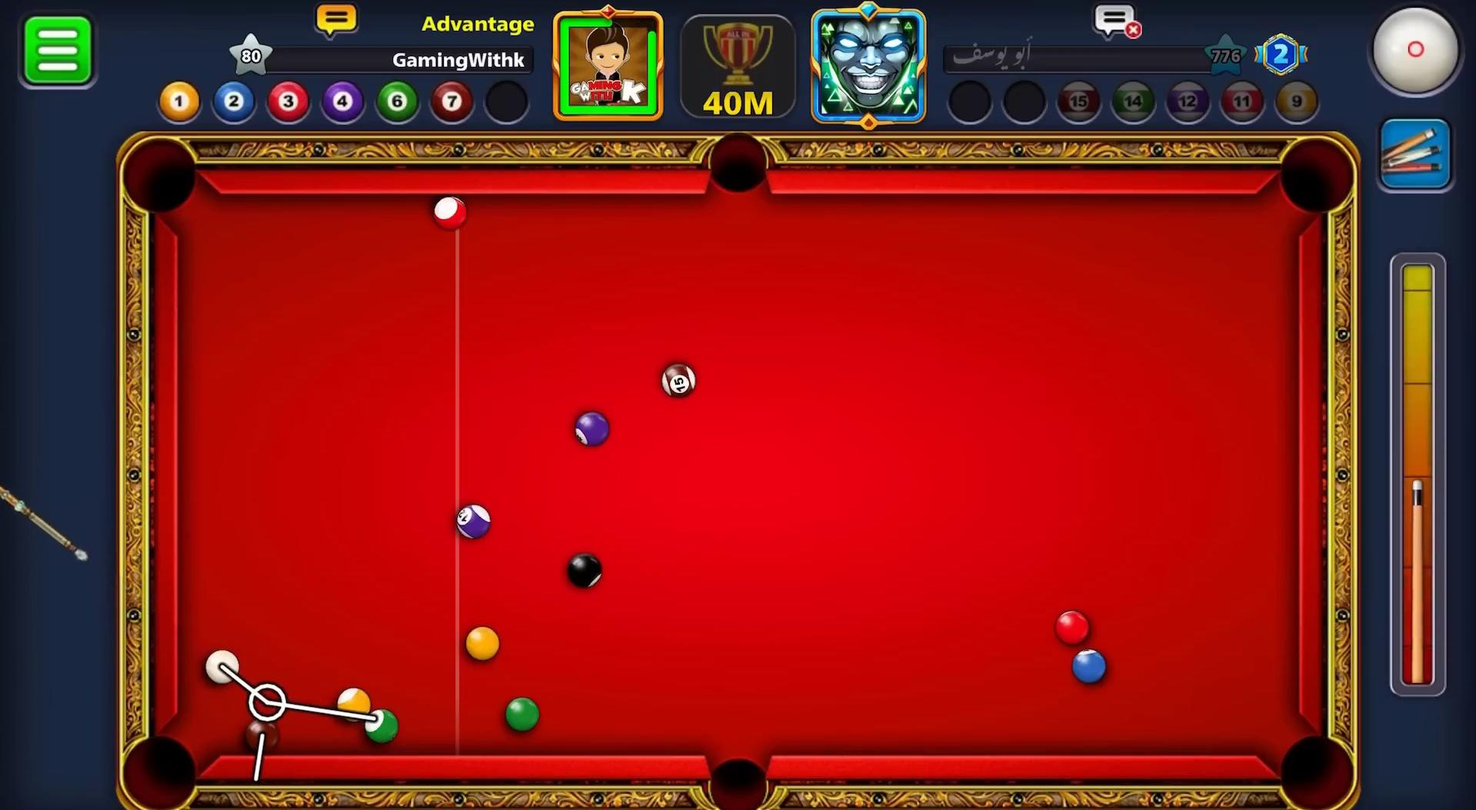Ball: (497, 688, 554, 744), (426, 181, 476, 243), (560, 402, 618, 455), (453, 620, 508, 670), (240, 711, 291, 764), (561, 547, 616, 595), (652, 356, 703, 404), (351, 699, 398, 751), (1046, 605, 1106, 644), (330, 681, 381, 726), (449, 498, 492, 546), (1067, 645, 1110, 689)
Force: (1391, 253, 1450, 695)
Guideline: (216, 662, 379, 725), (246, 684, 287, 722), (250, 733, 269, 787)
Hole: (102, 122, 221, 238), (1249, 719, 1380, 810), (1266, 125, 1366, 232), (102, 718, 218, 810), (687, 124, 798, 211), (690, 740, 788, 810)
Play_Area: (178, 193, 1299, 755)
Spin: (1364, 0, 1476, 110)
White: (197, 644, 244, 687)
